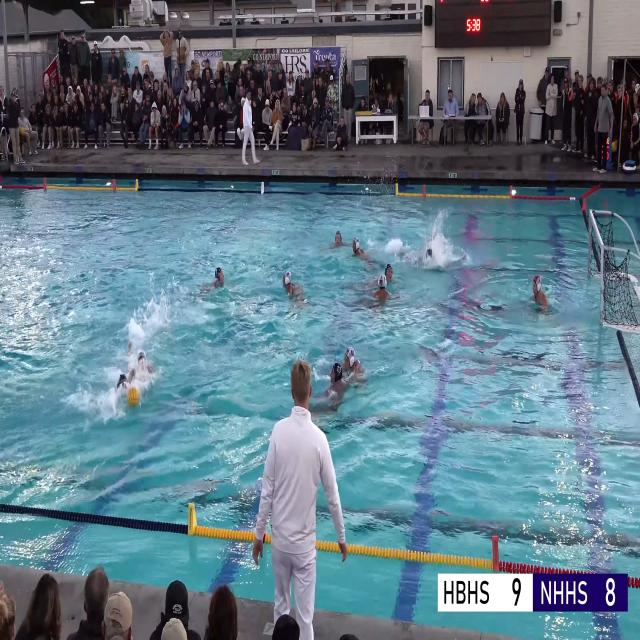ball: (128, 387, 140, 407), (612, 141, 617, 152), (20, 127, 26, 136)
